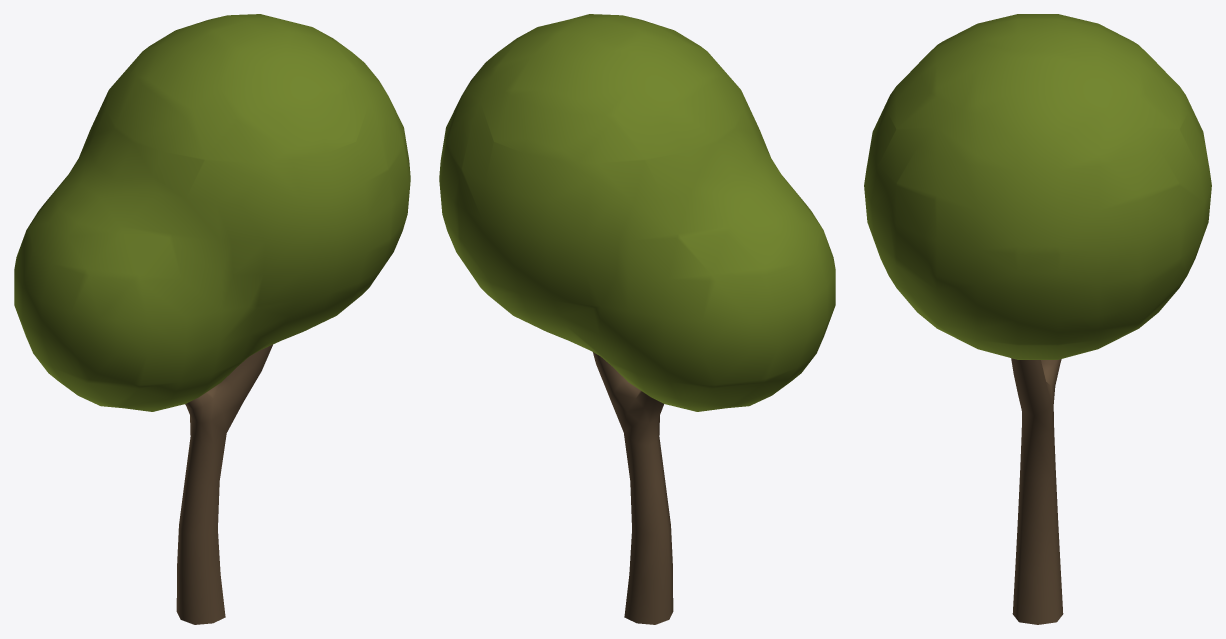
Rendered from tree3.glb.
3 views of the same model, side by side, from view 1: azimuth 30°, elevation 25°; view 2: azimuth 150°, elevation 25°; view 3: azimuth 270°, elevation 25° (orthographic). The views are drawn at different scales.
Visible parts, largest first — view 1: Tree_4; view 2: Tree_4; view 3: Tree_4.
Part boxes in pixels (left/top/right/bottom): Tree_4: left=14, top=14, right=410, bottom=624; Tree_4: left=439, top=14, right=835, bottom=624; Tree_4: left=864, top=14, right=1211, bottom=624.
Size of the model in its own units: 3.3 by 5.08 by 2.63.
